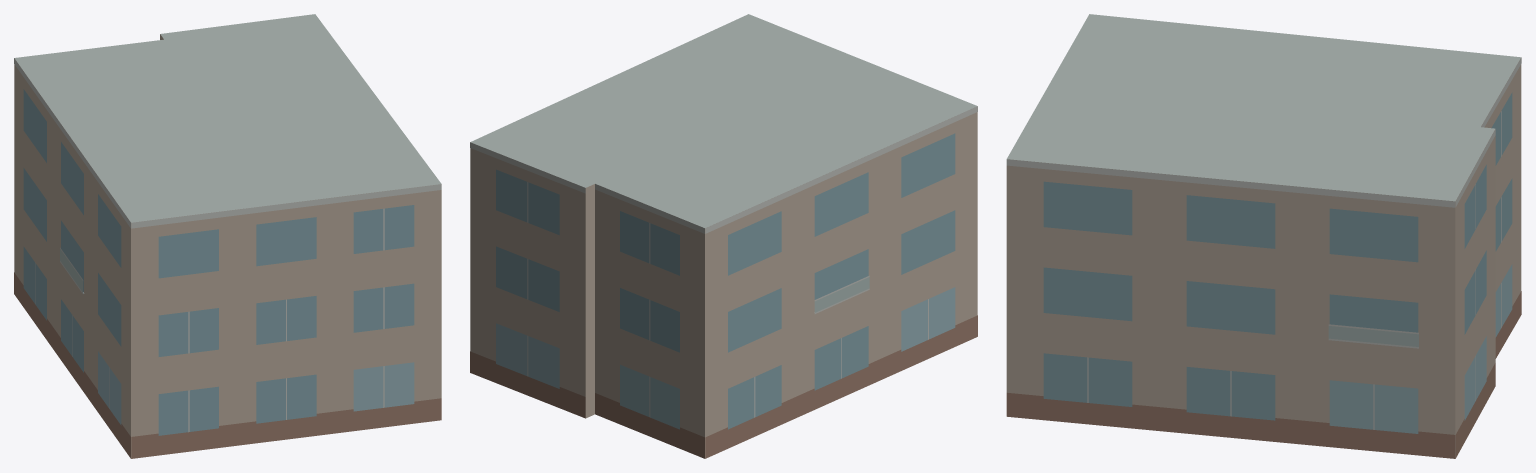
File: survey-upis-32947087.glb
3 renders of one model, left to right at view 1: azimuth 30°, elevation 25°; view 2: azimuth 150°, elevation 25°; view 3: azimuth 270°, elevation 25°, orthographic. The views are drawn at different scales.
Visible parts, largest first — view 1: survey-upis-32947087.tmp; view 2: survey-upis-32947087.tmp; view 3: survey-upis-32947087.tmp.
Boxes of the visible parts, x1=… form: survey-upis-32947087.tmp: x1=14, y1=14, x2=441, y2=458; survey-upis-32947087.tmp: x1=470, y1=14, x2=977, y2=458; survey-upis-32947087.tmp: x1=1006, y1=14, x2=1521, y2=458.
Size of the model in its own units: 15.3 by 9.8 by 17.77.
